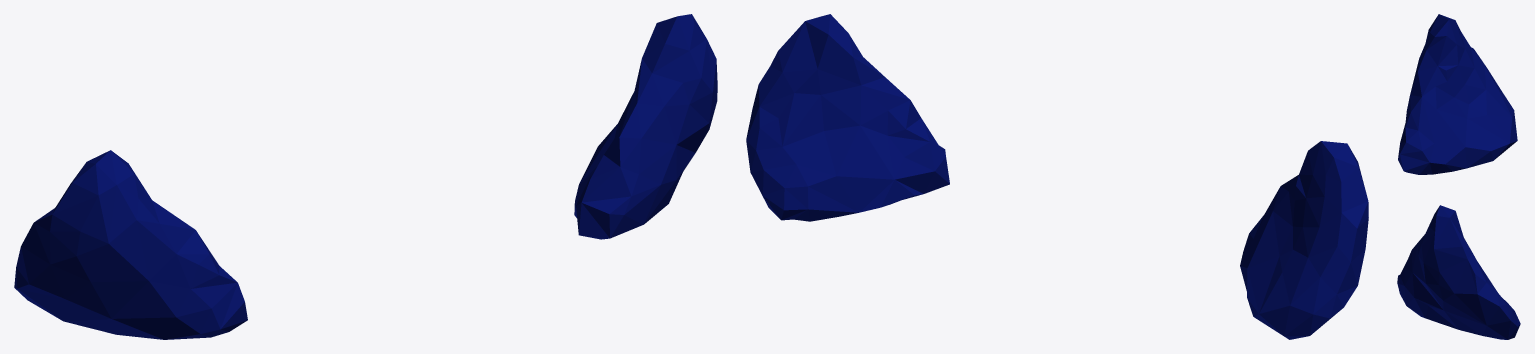
The model's file is 149-VPM-ventral posteromedial thalamic nucleus-('0.0000', '0.0745', '0.4980').obj.
The picture shows the model from 3 angles, left to right: view 1: azimuth 30°, elevation 25°; view 2: azimuth 150°, elevation 25°; view 3: azimuth 270°, elevation 25°; orthographic projection. The views are drawn at different scales.
Bounding box in the file's own units: 96.93 × 27.27 × 22.22.
